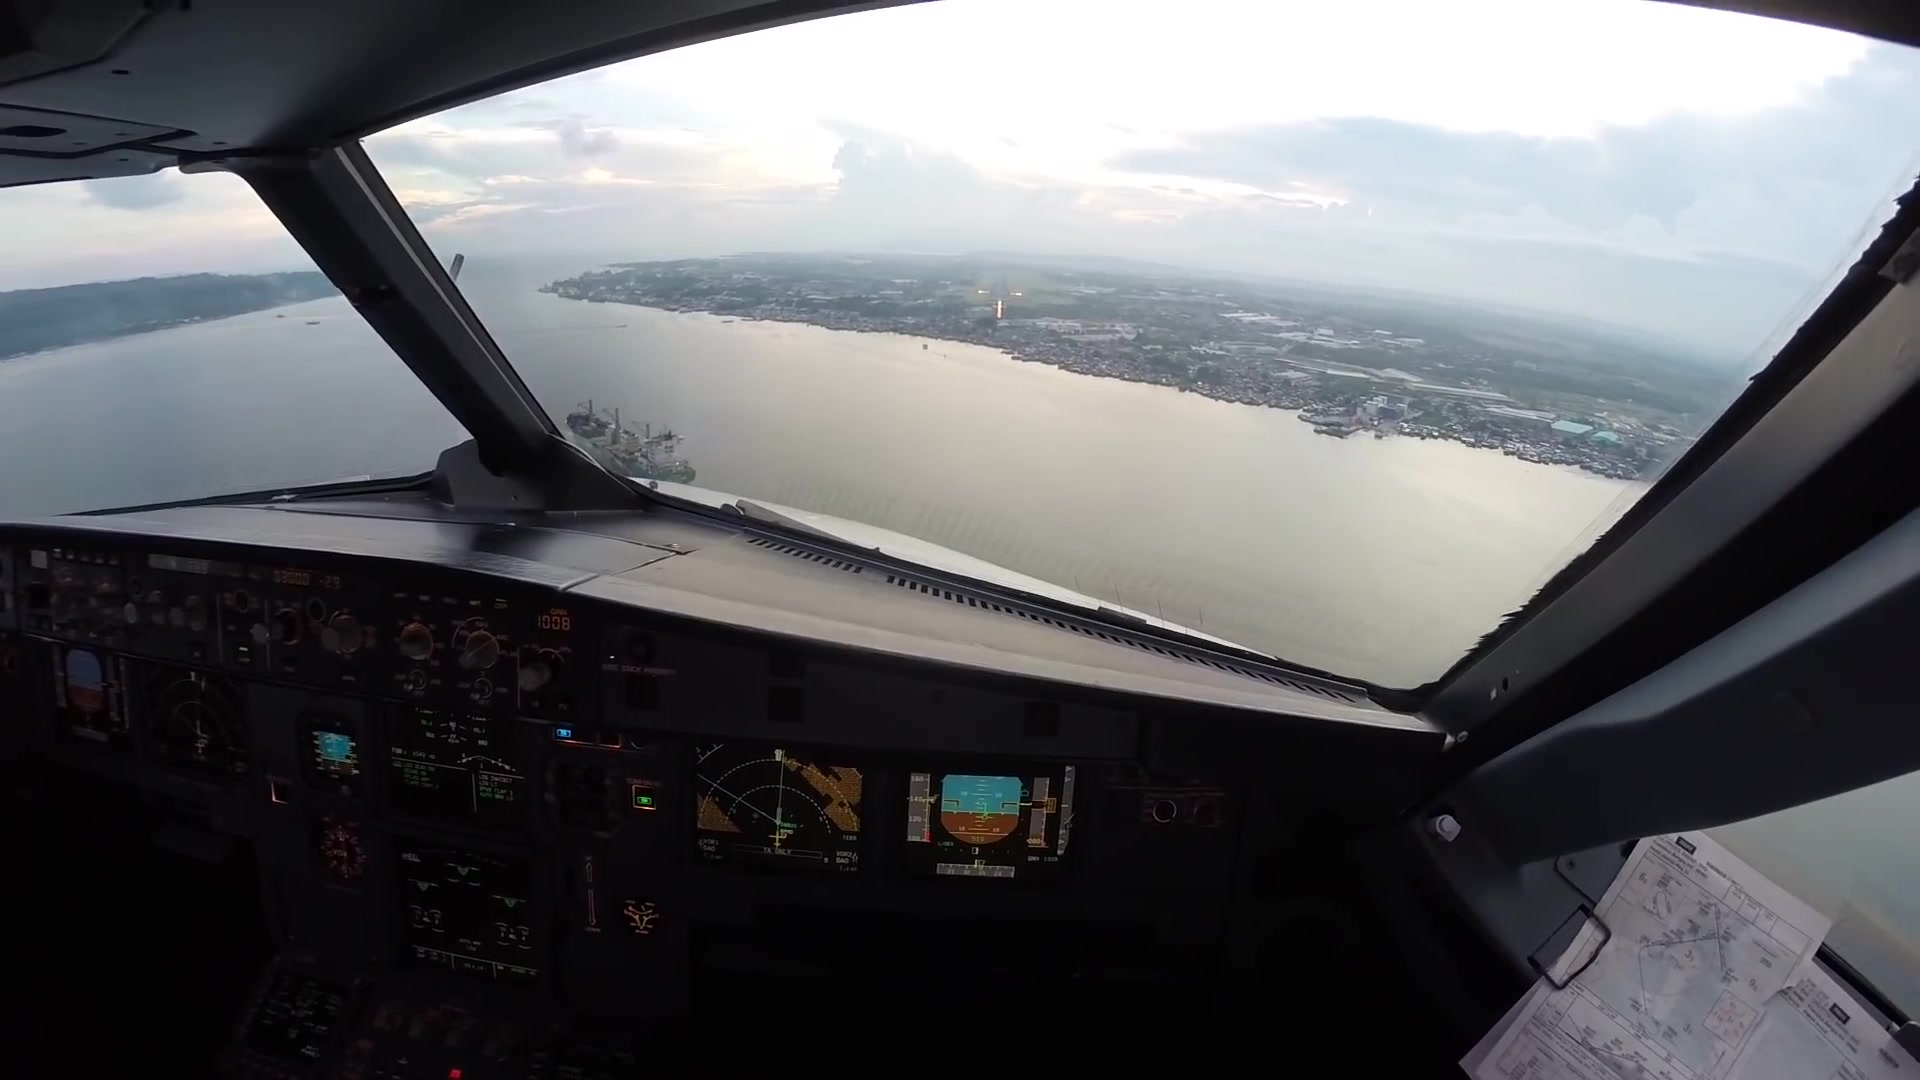runway: (986, 264, 1011, 303)
